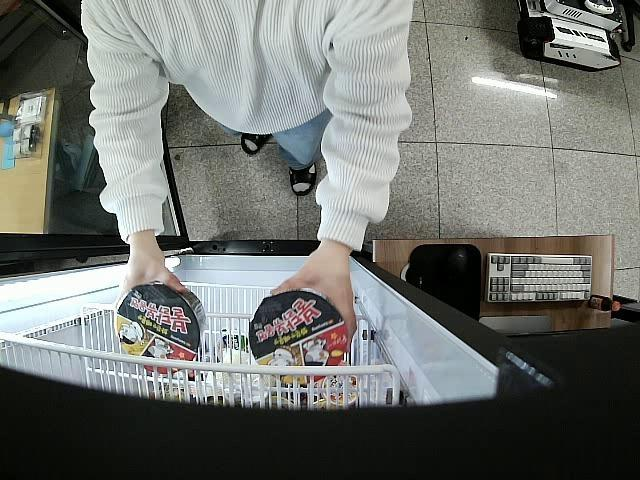07_buldak_L: (249, 290, 345, 386), (114, 284, 208, 376)
